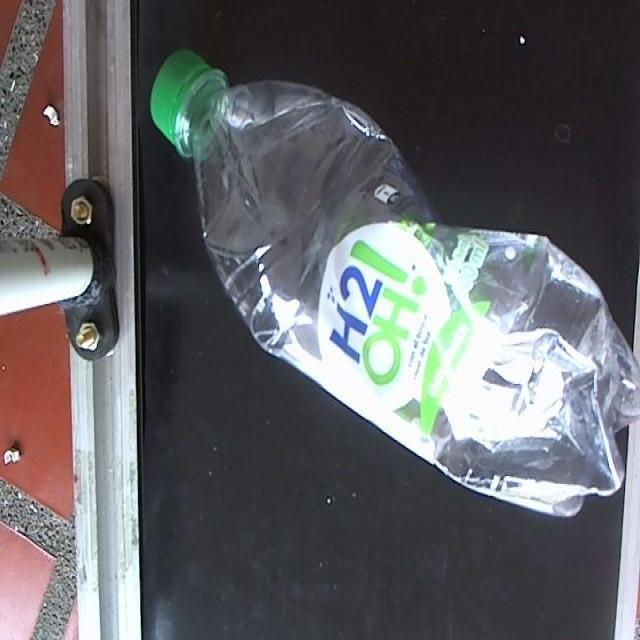defect: (147, 43, 640, 523)
